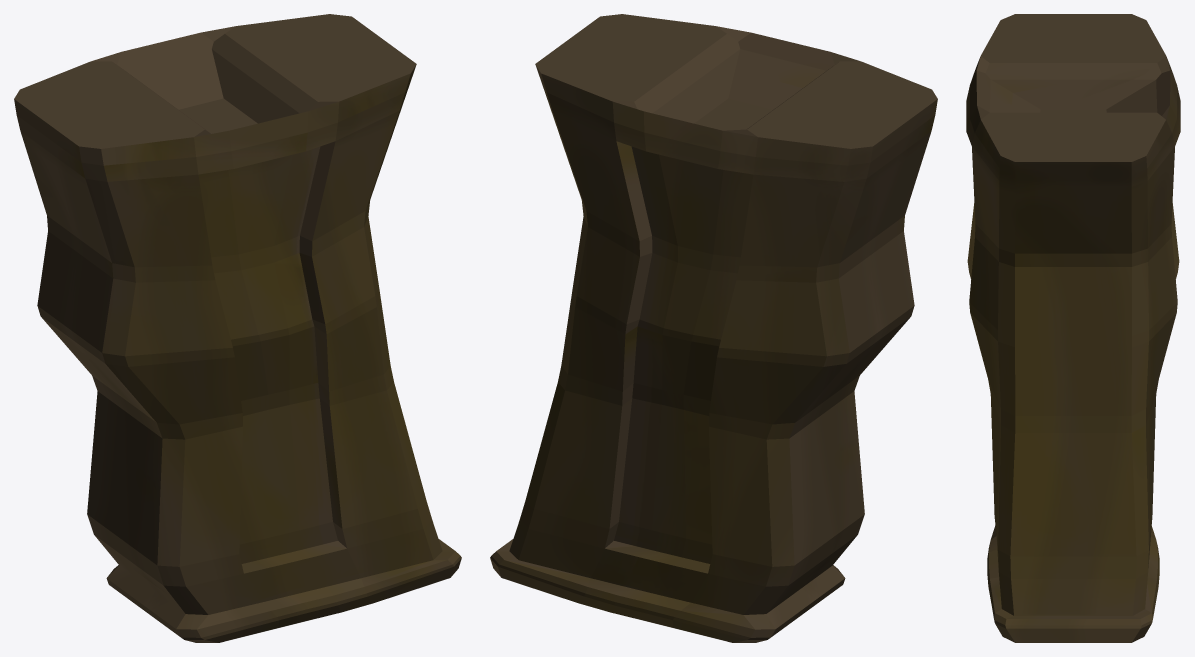
The model's file is HandleDefoltAK(wood).fbx.
3 renders of one model, left to right at view 1: azimuth 30°, elevation 25°; view 2: azimuth 150°, elevation 25°; view 3: azimuth 270°, elevation 25°, orthographic. The views are drawn at different scales.
Visible parts, largest first — view 1: Handle; view 2: Handle; view 3: Handle.
Boxes of the visible parts, left/top/right/bottom form: Handle: left=14, top=14, right=461, bottom=642; Handle: left=490, top=14, right=937, bottom=642; Handle: left=966, top=14, right=1180, bottom=642.
Bounding box in the file's own units: 20 × 26.55 × 10.87.
